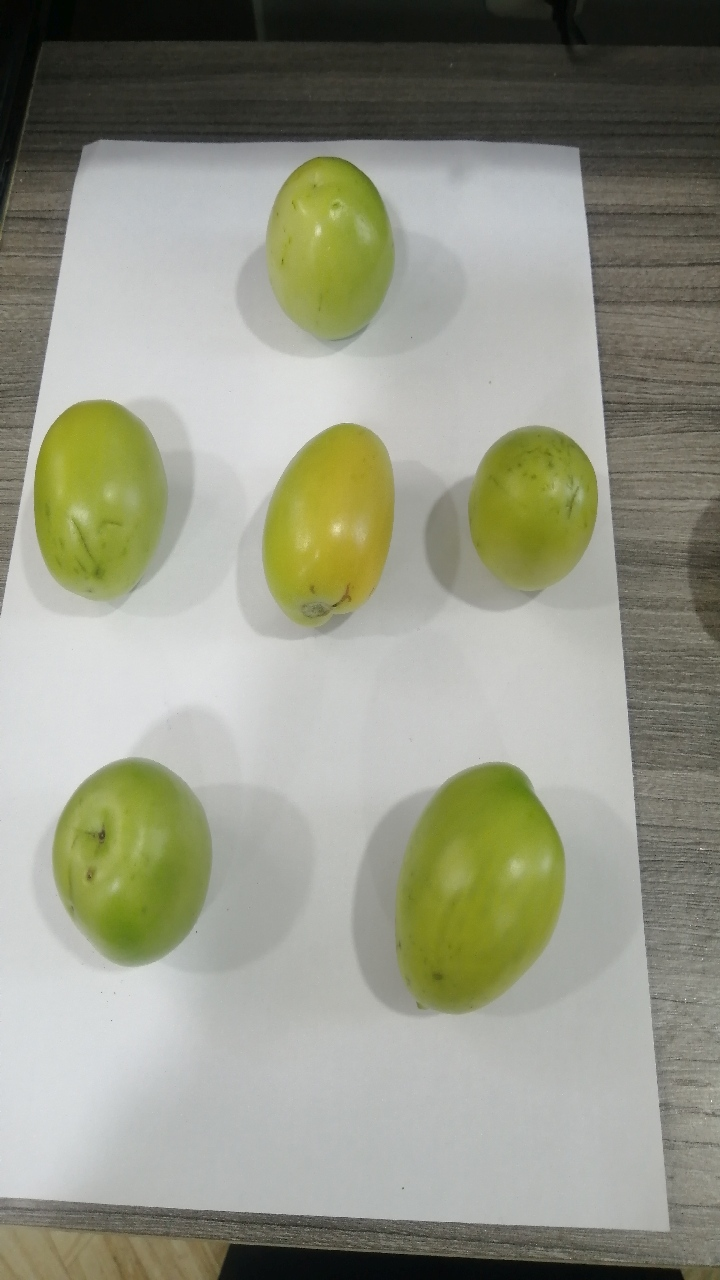tomateVerde: (360, 743, 577, 1042), (23, 737, 237, 986), (444, 386, 618, 620), (20, 382, 184, 620), (248, 412, 404, 659), (251, 142, 424, 359)
